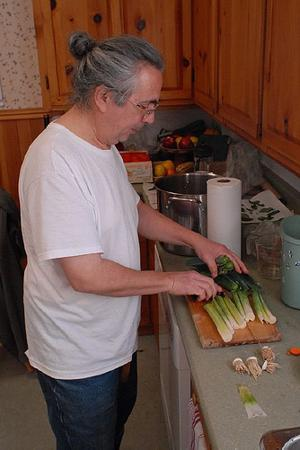person: (17, 29, 251, 446)
